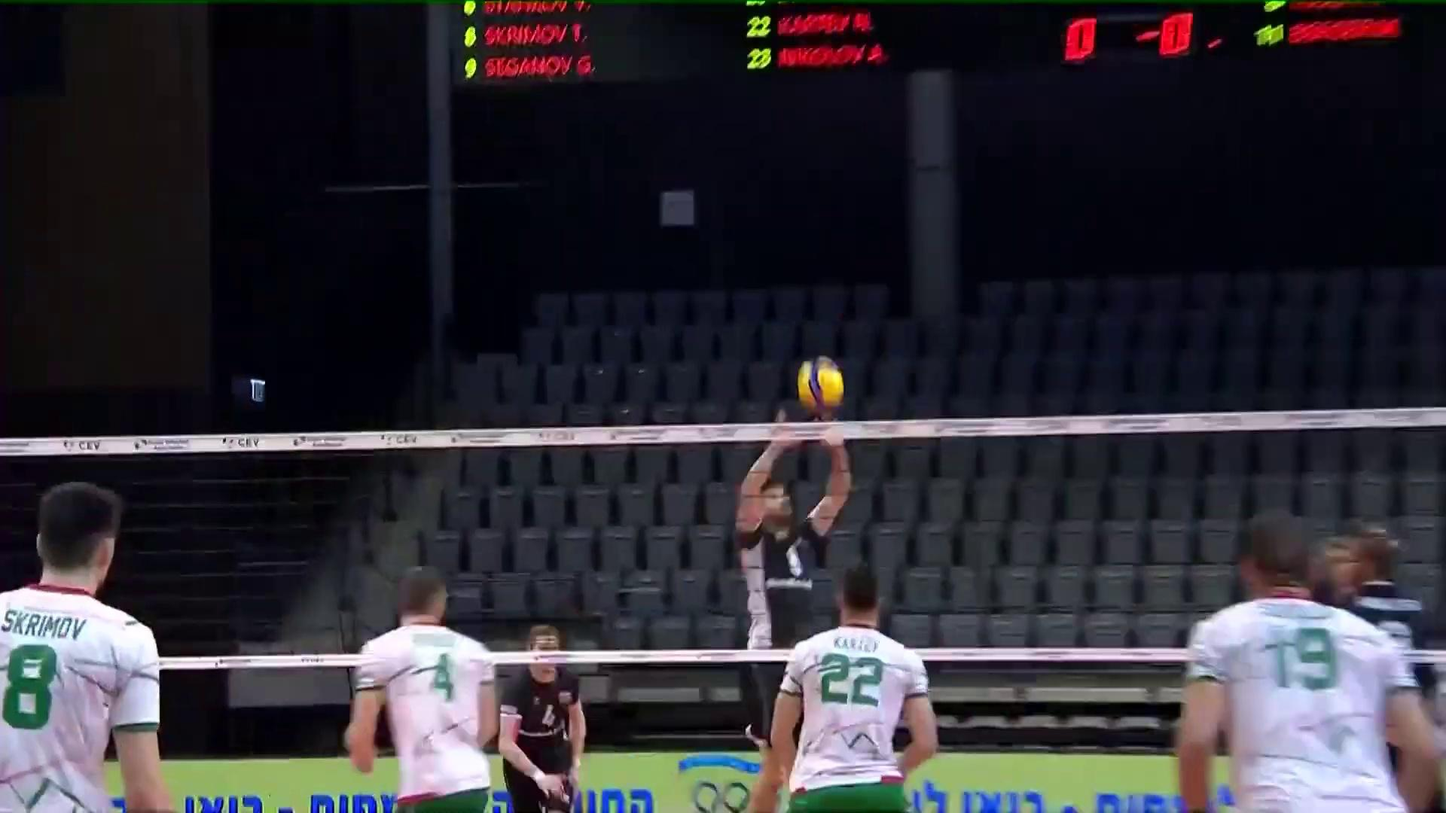ball: (796, 350, 848, 414)
